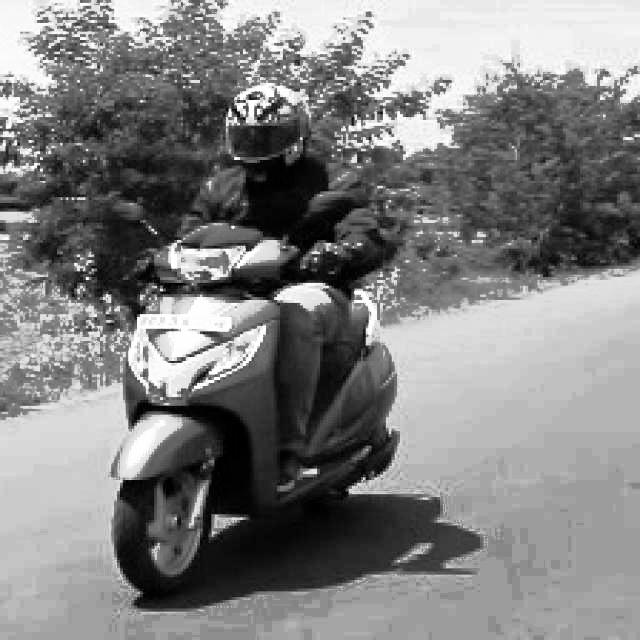Bike: (97, 217, 393, 589)
